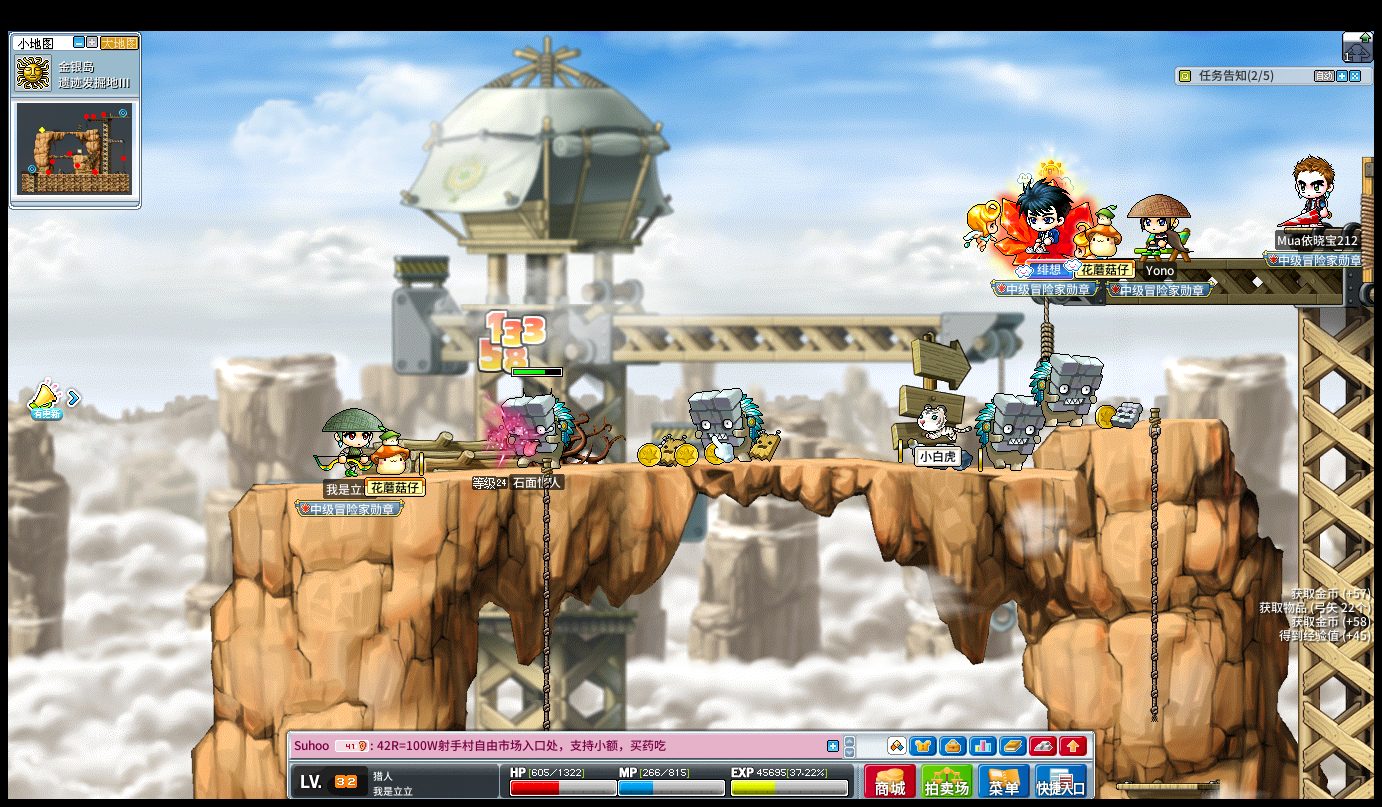floor: (274, 455, 1109, 480), (1057, 414, 1227, 431)
monster: (1030, 352, 1104, 430), (689, 386, 763, 464), (974, 392, 1041, 471), (506, 393, 574, 467)
rope: (1146, 403, 1160, 723), (539, 458, 551, 687)
